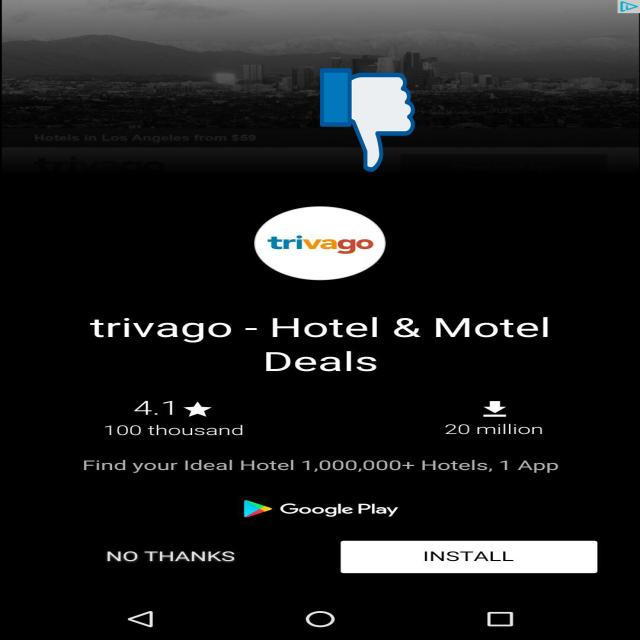obstruction: (320, 66, 415, 174)
